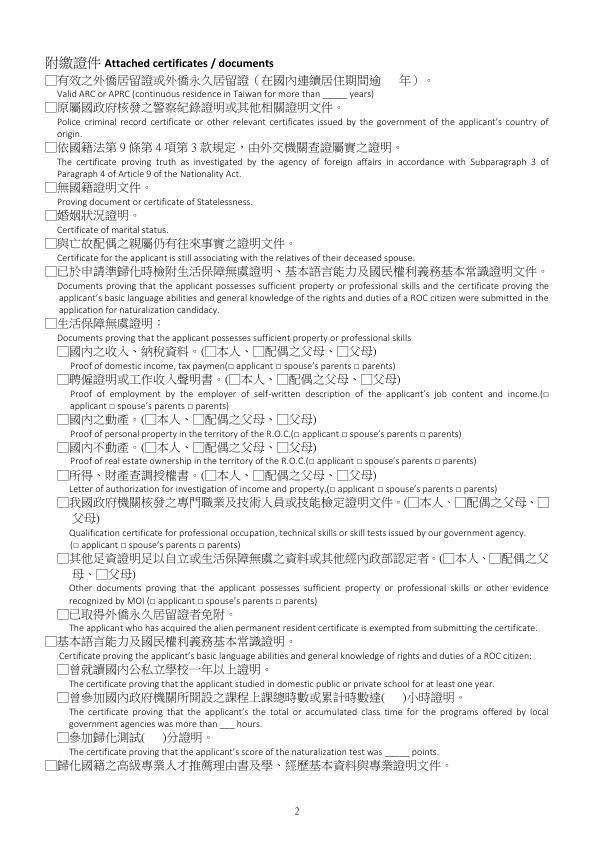check_box: (536, 495, 551, 510), (55, 496, 71, 510), (43, 235, 56, 252), (42, 181, 57, 195), (43, 264, 57, 279), (54, 372, 68, 387), (406, 496, 421, 510), (55, 551, 70, 565), (55, 607, 69, 622), (55, 663, 70, 677), (43, 100, 57, 114), (360, 373, 374, 387), (56, 468, 70, 482), (94, 567, 108, 581), (55, 731, 69, 745), (56, 344, 69, 359), (54, 413, 69, 426), (55, 440, 68, 455), (276, 440, 289, 455), (488, 552, 501, 567), (56, 690, 69, 705), (43, 758, 56, 773), (44, 73, 57, 87), (43, 209, 57, 222), (44, 316, 57, 330), (203, 344, 216, 358), (336, 345, 350, 358), (228, 373, 241, 387), (144, 413, 157, 427), (275, 413, 288, 427), (143, 441, 156, 455), (203, 468, 216, 482), (336, 469, 349, 483), (454, 497, 467, 511), (442, 552, 455, 566), (44, 635, 57, 649), (43, 141, 56, 154), (191, 413, 204, 426), (253, 345, 265, 359), (252, 468, 263, 483), (276, 373, 288, 386), (192, 441, 204, 454), (352, 360, 360, 370), (196, 597, 204, 606), (354, 457, 362, 465), (377, 485, 384, 494), (120, 541, 127, 550), (198, 542, 205, 551), (148, 597, 155, 606), (274, 597, 281, 606), (434, 458, 441, 466), (72, 541, 79, 549), (308, 457, 314, 466), (275, 362, 281, 370), (228, 363, 234, 371), (329, 485, 335, 493), (456, 486, 461, 493)
input: (140, 731, 166, 745), (381, 691, 407, 704), (385, 747, 410, 759), (322, 90, 347, 101), (219, 720, 235, 732)
text: (57, 265, 556, 314), (54, 117, 553, 140), (55, 157, 556, 179), (57, 237, 418, 262), (57, 317, 415, 342), (57, 760, 452, 774), (57, 180, 255, 207), (69, 707, 553, 718), (67, 622, 540, 633), (69, 389, 540, 400), (58, 74, 433, 87), (67, 583, 550, 593), (59, 651, 535, 661), (70, 552, 436, 565), (57, 141, 402, 154), (68, 679, 498, 689), (65, 529, 528, 538), (70, 691, 381, 704), (70, 496, 401, 508), (68, 746, 383, 758), (57, 101, 344, 114), (43, 53, 278, 68), (58, 635, 295, 648), (57, 209, 169, 234), (55, 89, 320, 99), (70, 663, 271, 676), (68, 455, 305, 466), (69, 485, 326, 494), (69, 608, 235, 621), (69, 373, 221, 386), (69, 344, 199, 359), (69, 430, 290, 438), (70, 468, 198, 481), (67, 360, 224, 370), (67, 720, 218, 728), (70, 413, 138, 427), (205, 440, 272, 454), (70, 731, 140, 744), (266, 345, 333, 358), (69, 442, 137, 454), (265, 469, 333, 481), (467, 496, 535, 508), (408, 691, 468, 704), (289, 373, 350, 385), (205, 413, 265, 425), (68, 596, 145, 605), (128, 540, 196, 550), (350, 430, 417, 440), (502, 551, 549, 565), (167, 730, 213, 744), (206, 598, 274, 607), (386, 485, 453, 494), (364, 458, 433, 466), (284, 363, 351, 371), (118, 402, 185, 410), (156, 413, 189, 428), (217, 344, 250, 358), (156, 440, 190, 453), (241, 373, 273, 386), (217, 469, 249, 482), (456, 552, 485, 566), (463, 483, 499, 494), (420, 497, 453, 509), (349, 468, 379, 481), (282, 597, 321, 607), (73, 512, 104, 524), (157, 596, 194, 606), (350, 344, 378, 357), (428, 430, 464, 440), (442, 457, 478, 467), (374, 373, 401, 386), (68, 402, 107, 411), (288, 413, 317, 425), (108, 568, 137, 580), (289, 441, 317, 453), (302, 431, 339, 440), (317, 456, 354, 465), (336, 485, 375, 493), (235, 362, 273, 370), (80, 541, 118, 549), (206, 541, 244, 549), (349, 89, 379, 99), (195, 402, 228, 410), (70, 568, 91, 580), (236, 720, 264, 729), (411, 748, 438, 757), (362, 363, 396, 370)
